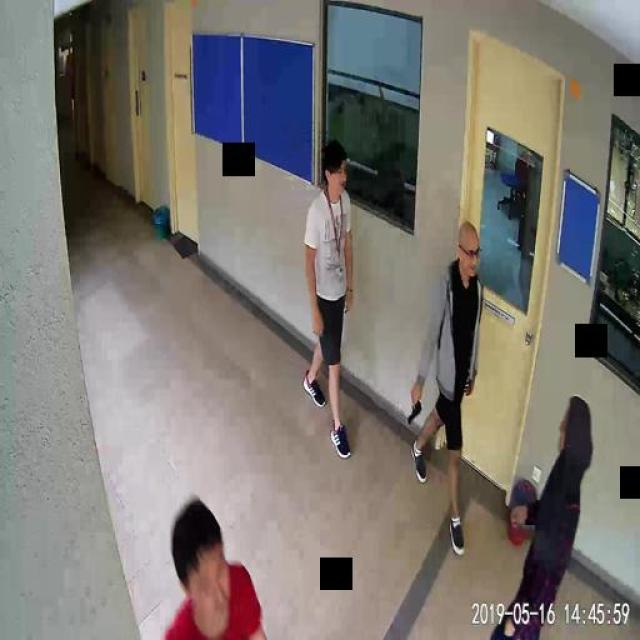gun: (406, 393, 420, 425)
